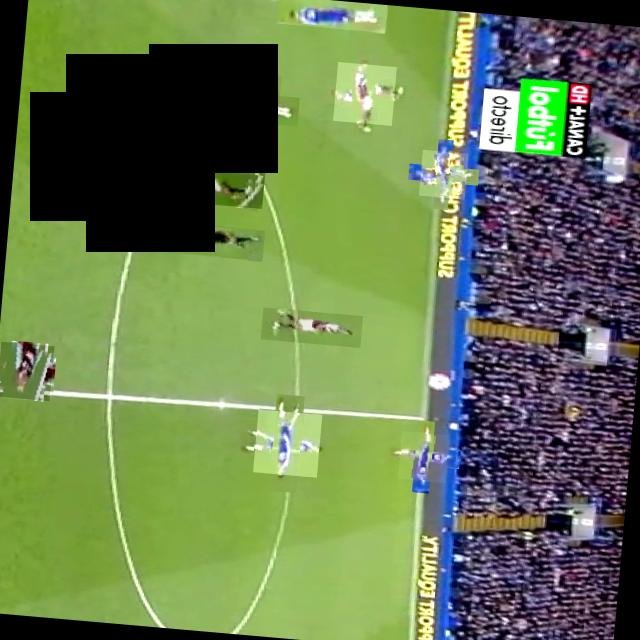referee: (148, 220, 264, 260)
soccer-player: (204, 70, 280, 144), (146, 162, 264, 208), (251, 409, 320, 477), (260, 306, 362, 347), (332, 61, 396, 126), (275, 0, 386, 32), (0, 341, 53, 400), (396, 430, 448, 482), (417, 148, 467, 198)
